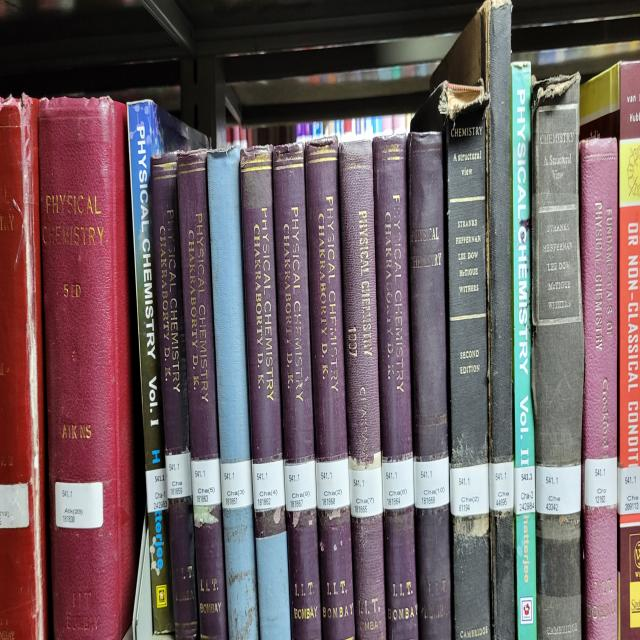Book: (431, 0, 516, 639), (39, 97, 138, 639), (414, 78, 491, 639), (128, 100, 196, 633), (580, 62, 640, 639), (531, 76, 584, 639), (0, 95, 48, 639), (208, 146, 259, 639), (305, 138, 355, 639), (240, 146, 290, 639), (178, 149, 228, 639), (272, 143, 321, 639), (372, 135, 419, 639), (339, 141, 386, 639), (151, 152, 199, 639), (409, 133, 451, 639), (580, 138, 618, 639), (511, 65, 538, 639)
Label: (535, 465, 581, 514), (55, 482, 104, 528), (450, 463, 489, 517), (414, 457, 450, 509), (316, 457, 350, 509), (381, 457, 414, 509), (349, 465, 382, 517), (252, 460, 285, 511), (584, 457, 618, 506), (284, 460, 316, 511), (220, 460, 252, 509), (191, 457, 221, 506), (0, 484, 29, 528), (489, 460, 514, 511), (165, 452, 191, 501), (618, 465, 640, 517), (514, 465, 535, 514), (146, 468, 168, 514)
